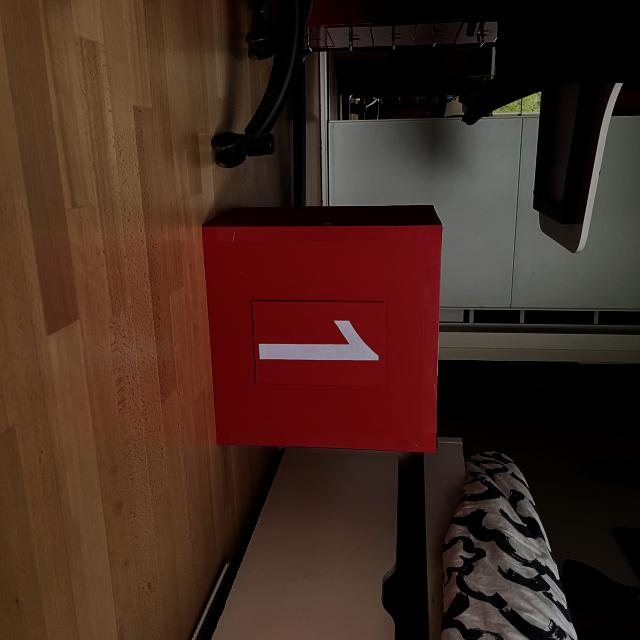box: (198, 201, 444, 455)
